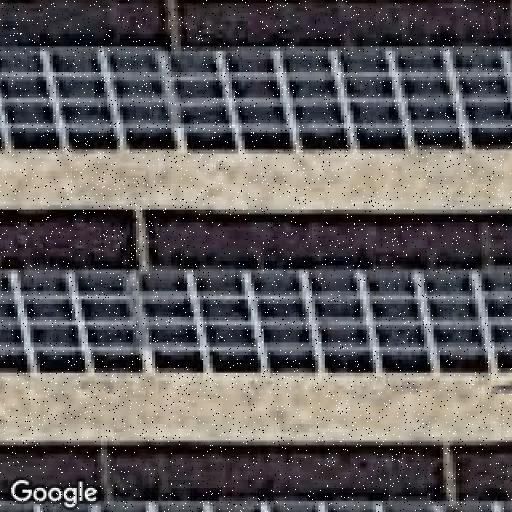solar-panel: (0, 262, 512, 376), (0, 45, 512, 152), (0, 496, 512, 512)
